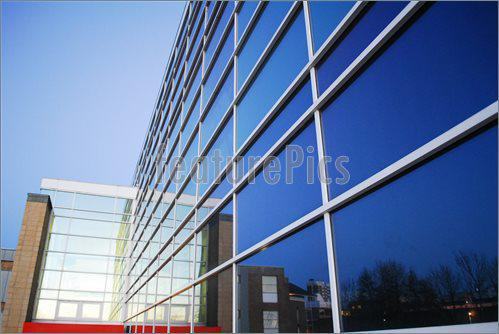affected: (8, 0, 499, 334)
